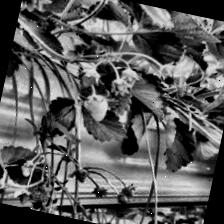Powdery Mildew Fruit: (80, 92, 110, 124)
